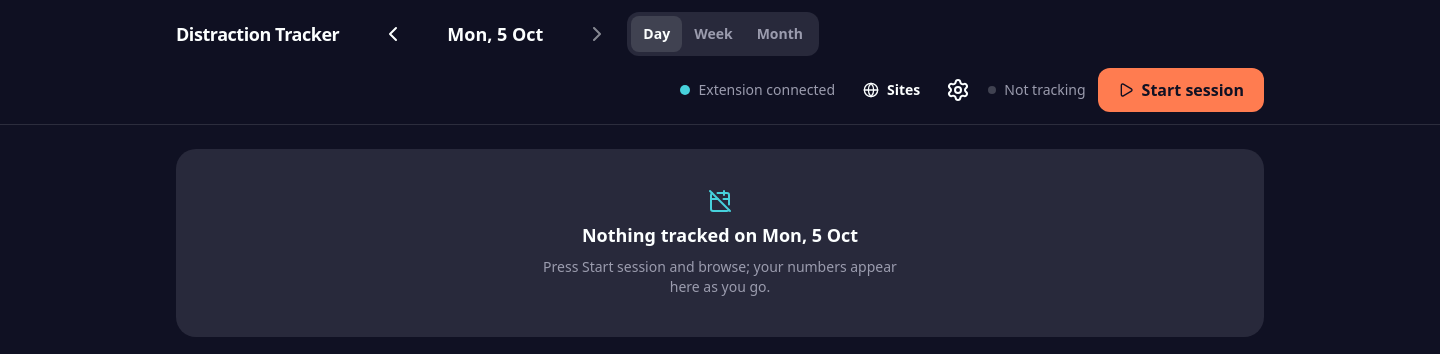
Test case: period navigation › steps back a day, shows a Today button, and Today brings you back
Click the button named "Previous day".
click(393, 34)  # box x1=371 y1=12 x2=415 y2=56
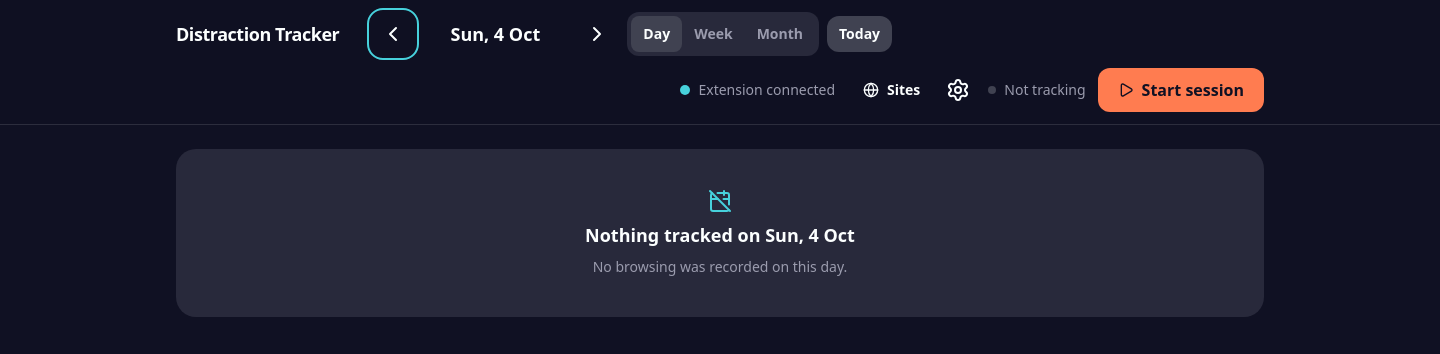
Result: the heading reads "Sun, 4 Oct" at x1=450 y1=22 x2=540 y2=46
Click the button "Today".
click(860, 34)  # box x1=827 y1=16 x2=892 y2=52
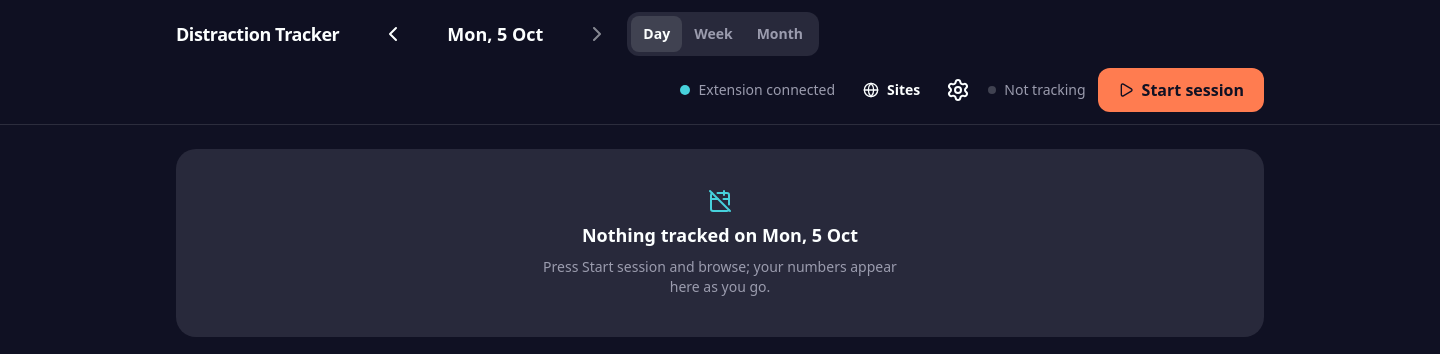
Result: the heading reads "Mon, 5 Oct" at x1=447 y1=22 x2=543 y2=46
